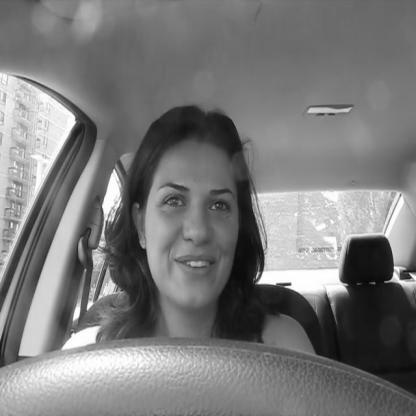no_seatbelt: (75, 99, 271, 347)
